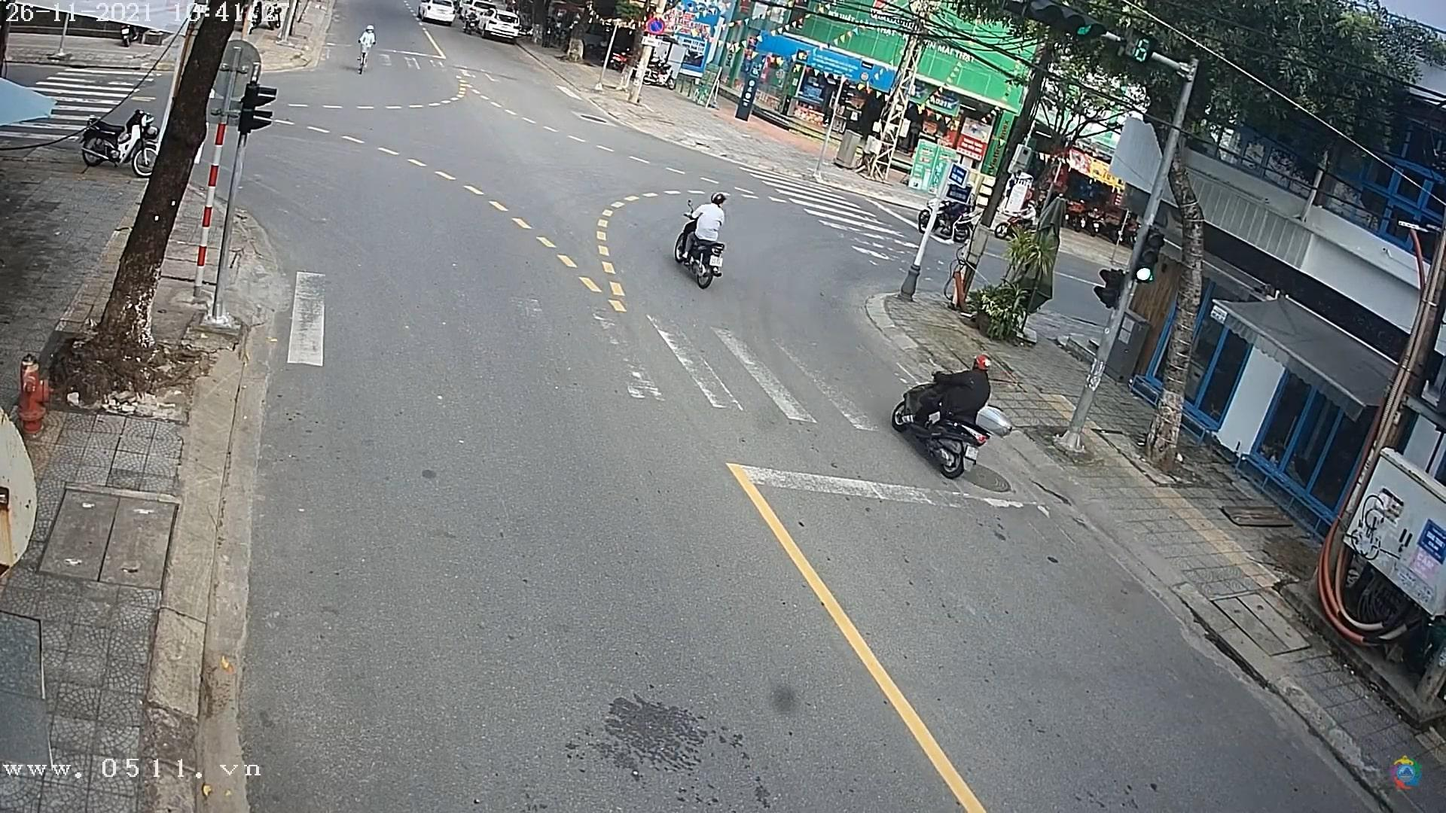car: (421, 2, 459, 26)
motorbike: (886, 377, 992, 481), (676, 232, 726, 287)
